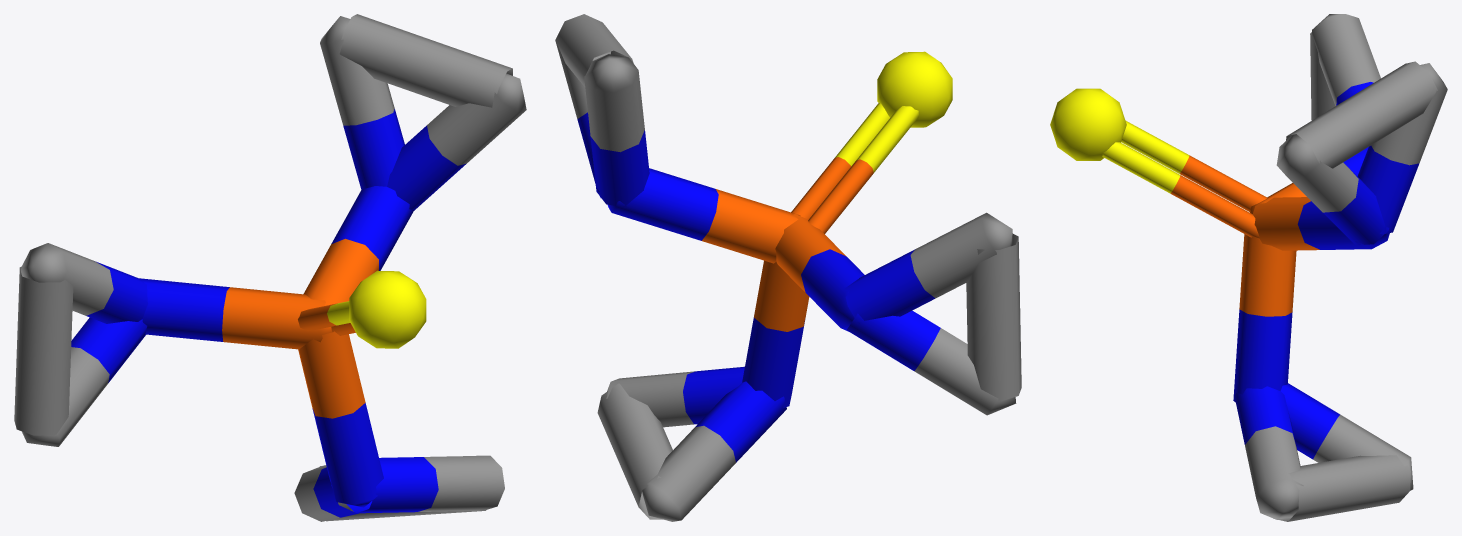
The model's file is thiotepa.glb.
3 renders of one model, left to right at view 1: azimuth 30°, elevation 25°; view 2: azimuth 150°, elevation 25°; view 3: azimuth 270°, elevation 25°, orthographic. The views are drawn at different scales.
Visible parts, largest first — view 1: node-geom0; view 2: node-geom0; view 3: node-geom0.
Boxes of the visible parts, box(x1,y1,x2,y2) form: node-geom0: box(14, 14, 526, 521); node-geom0: box(555, 14, 1021, 521); node-geom0: box(1050, 14, 1447, 521).
Bounding box in the file's own units: 5.03 × 4.74 × 3.73.
